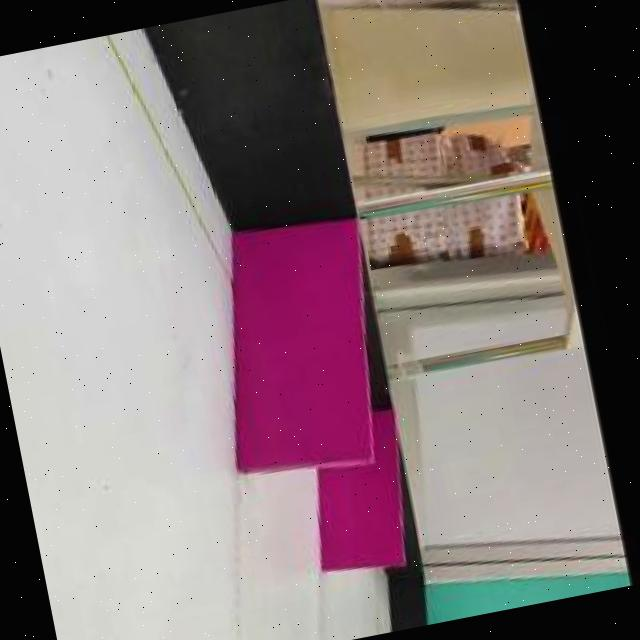xparking: (227, 224, 371, 472), (316, 457, 403, 572)
